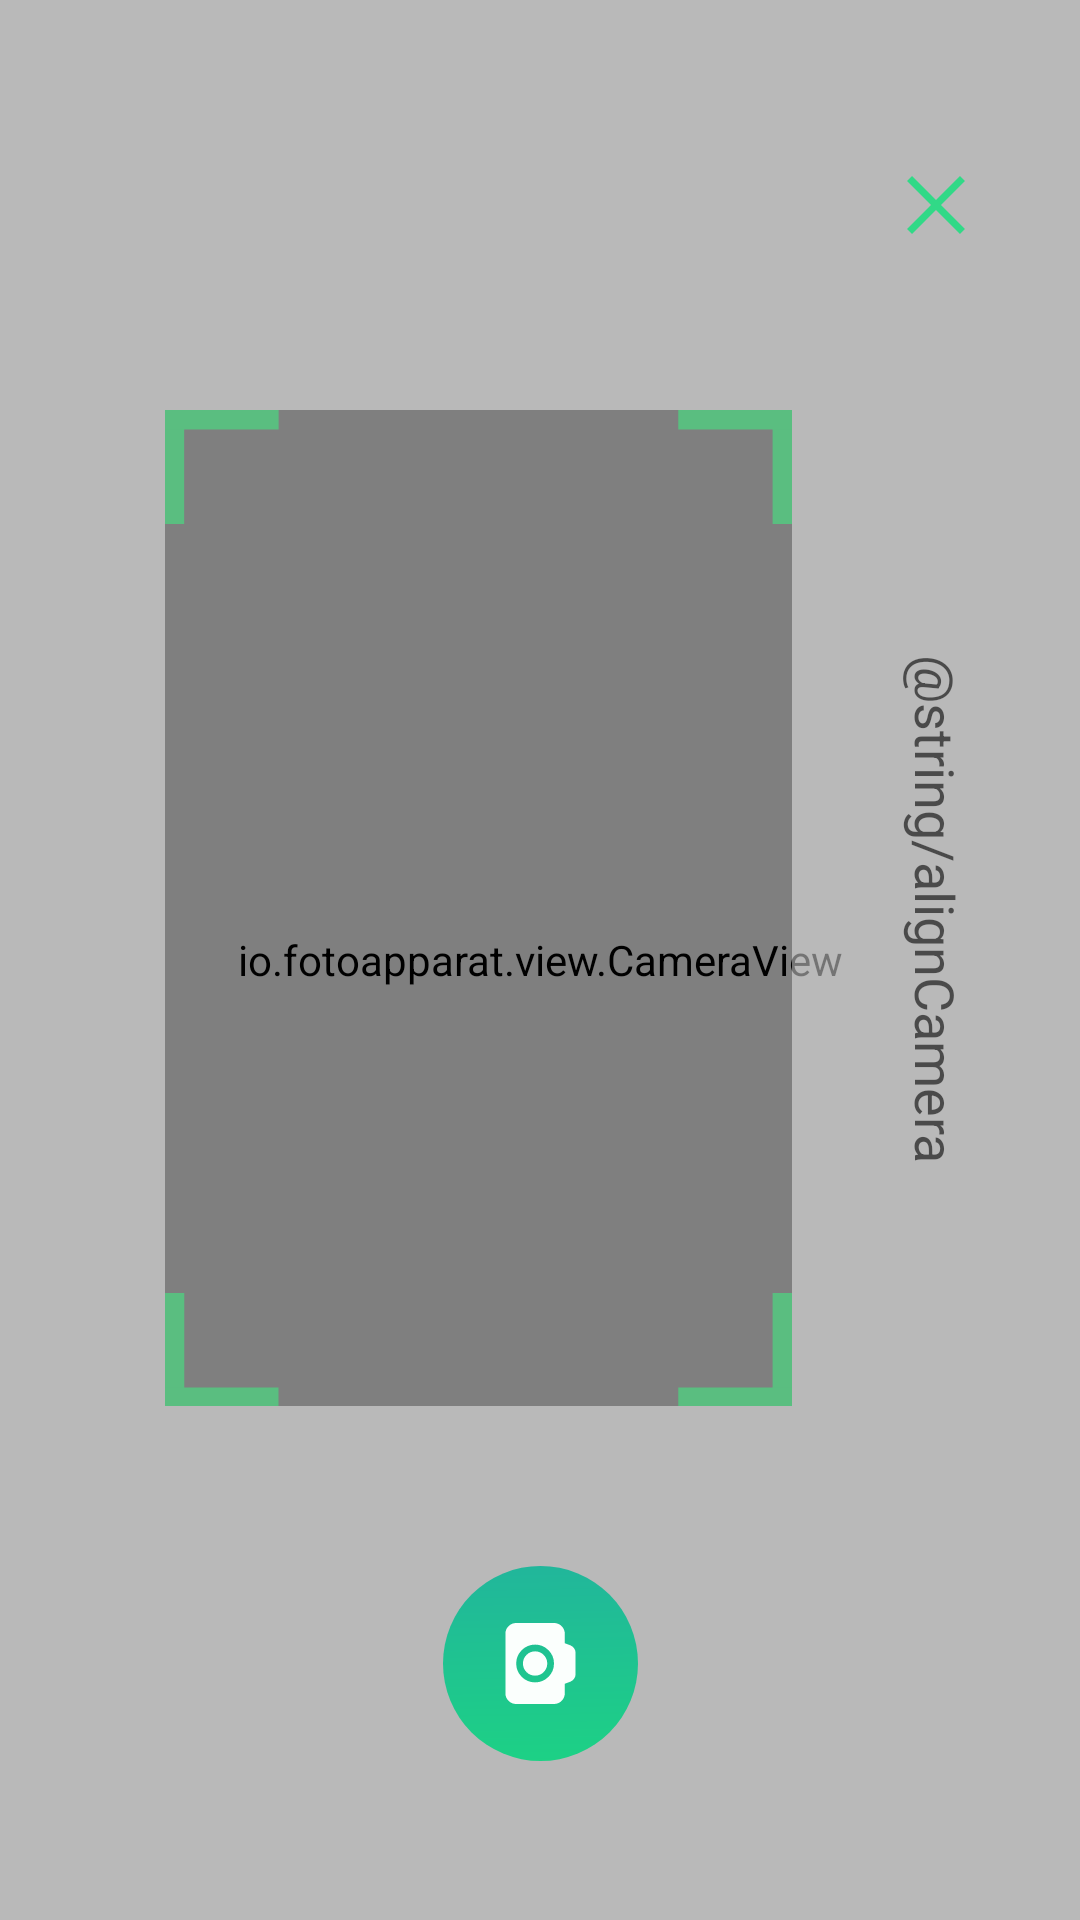

Point at icon controls on the screen. Image size 1080px×1920px, points as [x,y].
close: [936,205]
